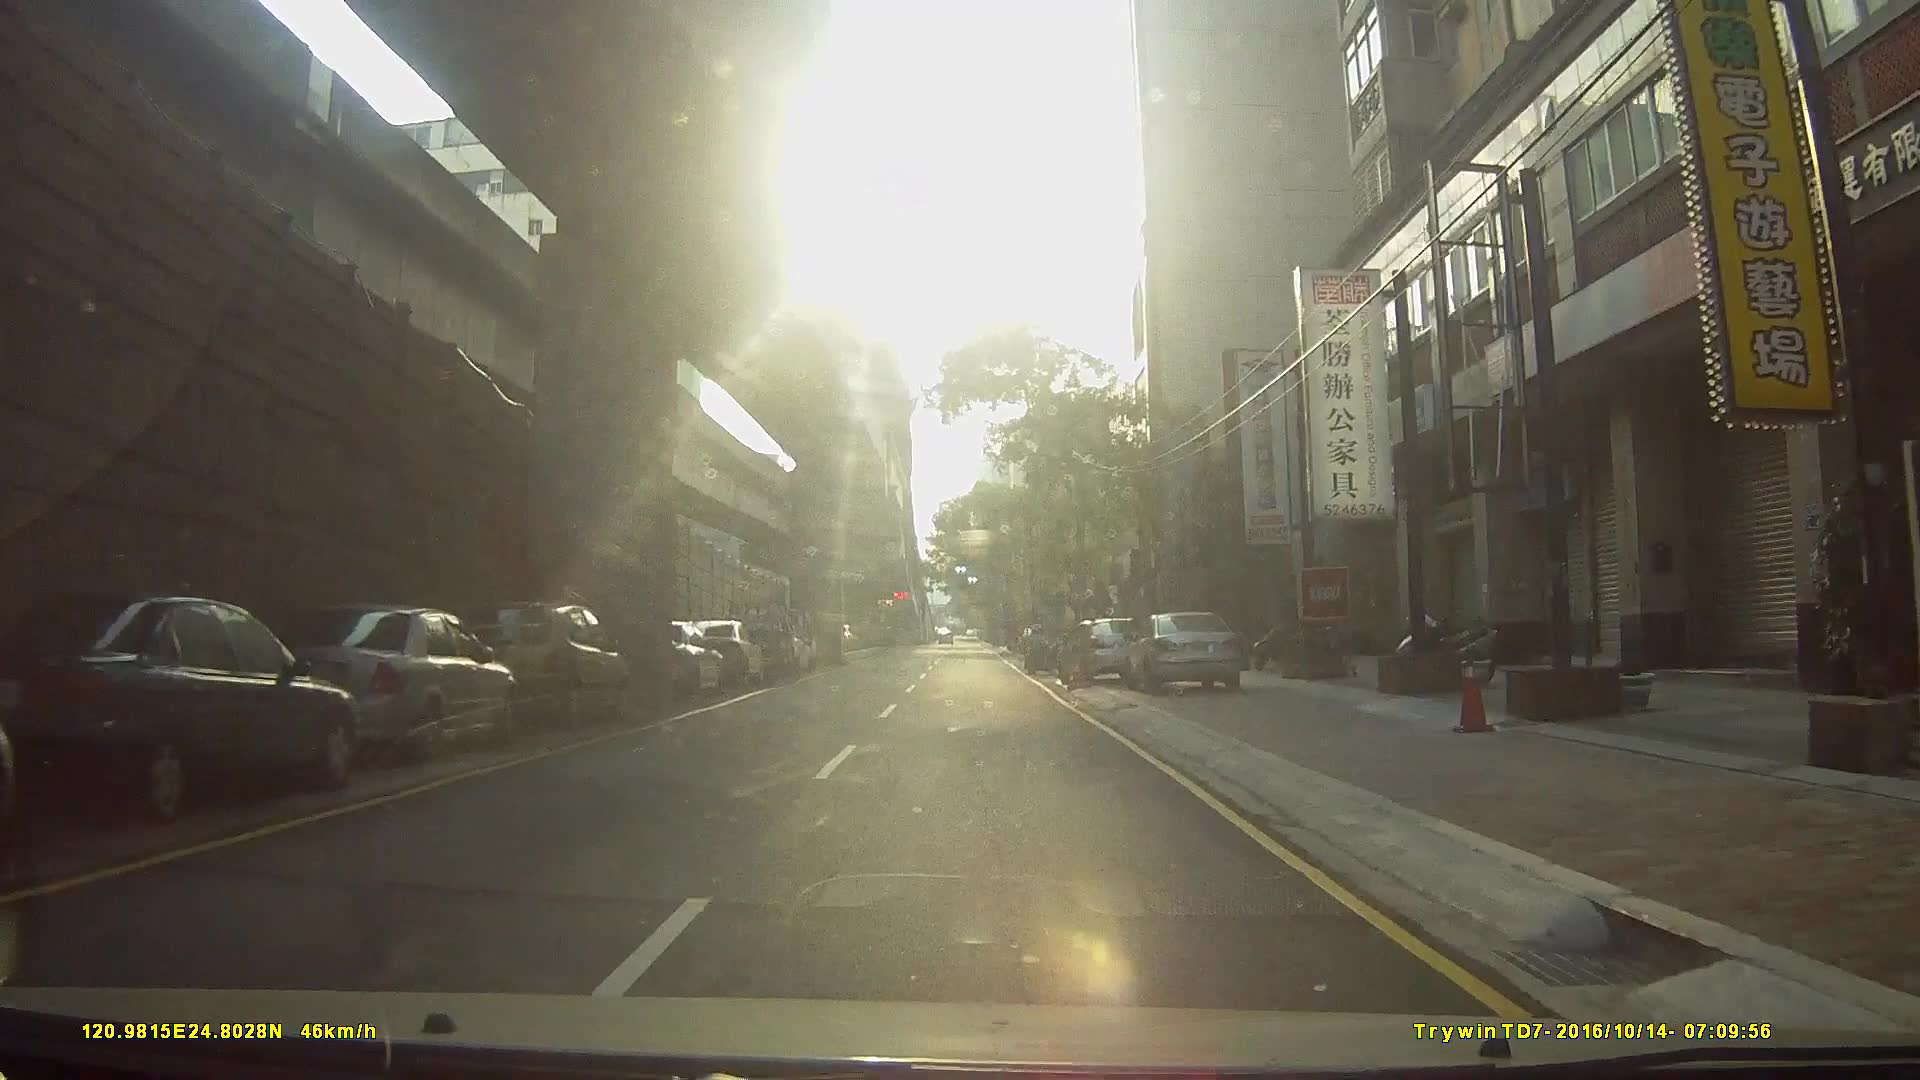rider: (1020, 623, 1057, 678)
vehicle: (1, 601, 367, 831), (263, 600, 510, 766), (440, 598, 625, 736), (1124, 607, 1245, 693), (633, 617, 722, 700), (1057, 615, 1147, 686), (721, 594, 794, 679), (676, 618, 762, 689)
